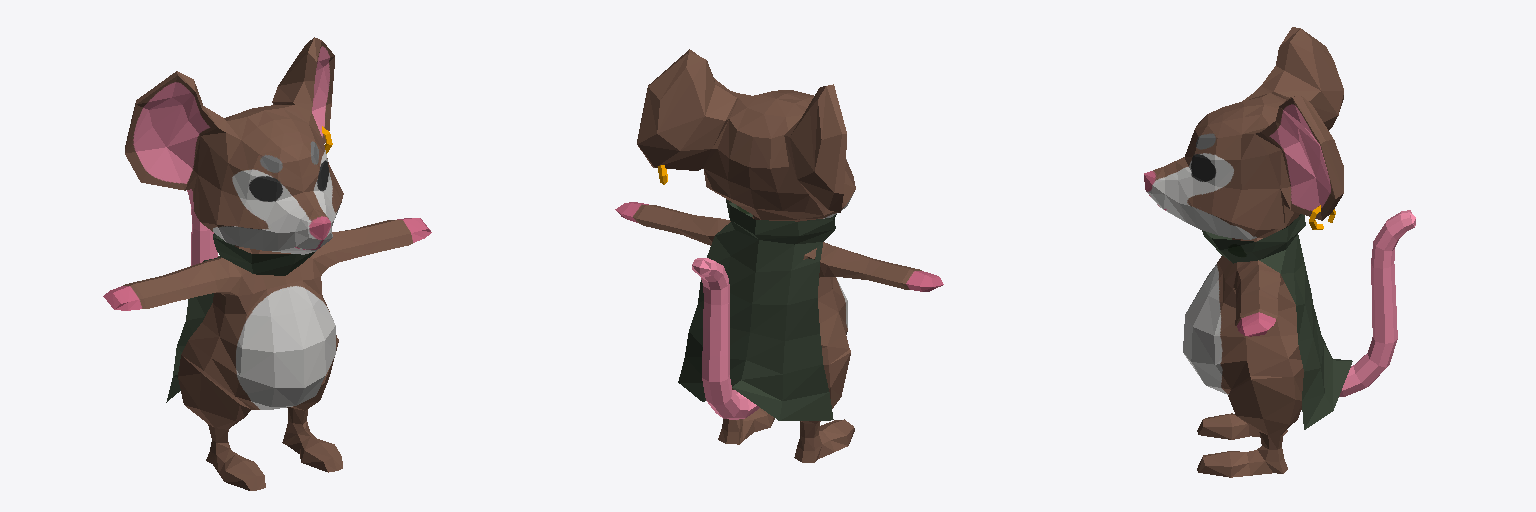
The picture shows the model from 3 angles: view 1: azimuth 30°, elevation 25°; view 2: azimuth 150°, elevation 25°; view 3: azimuth 270°, elevation 25°; orthographic projection.
Parts seen in each view (by area): view 1: RAtON:raton_capa; view 2: RAtON:raton_capa; view 3: RAtON:raton_capa.
Part boxes in pixels (bbox=[...]): RAtON:raton_capa: bbox=[103, 37, 431, 490]; RAtON:raton_capa: bbox=[615, 49, 943, 462]; RAtON:raton_capa: bbox=[1144, 27, 1415, 477].
Size of the model in its own units: 0.8444 by 0.9869 by 0.6278.
1 materials, 1 textured.